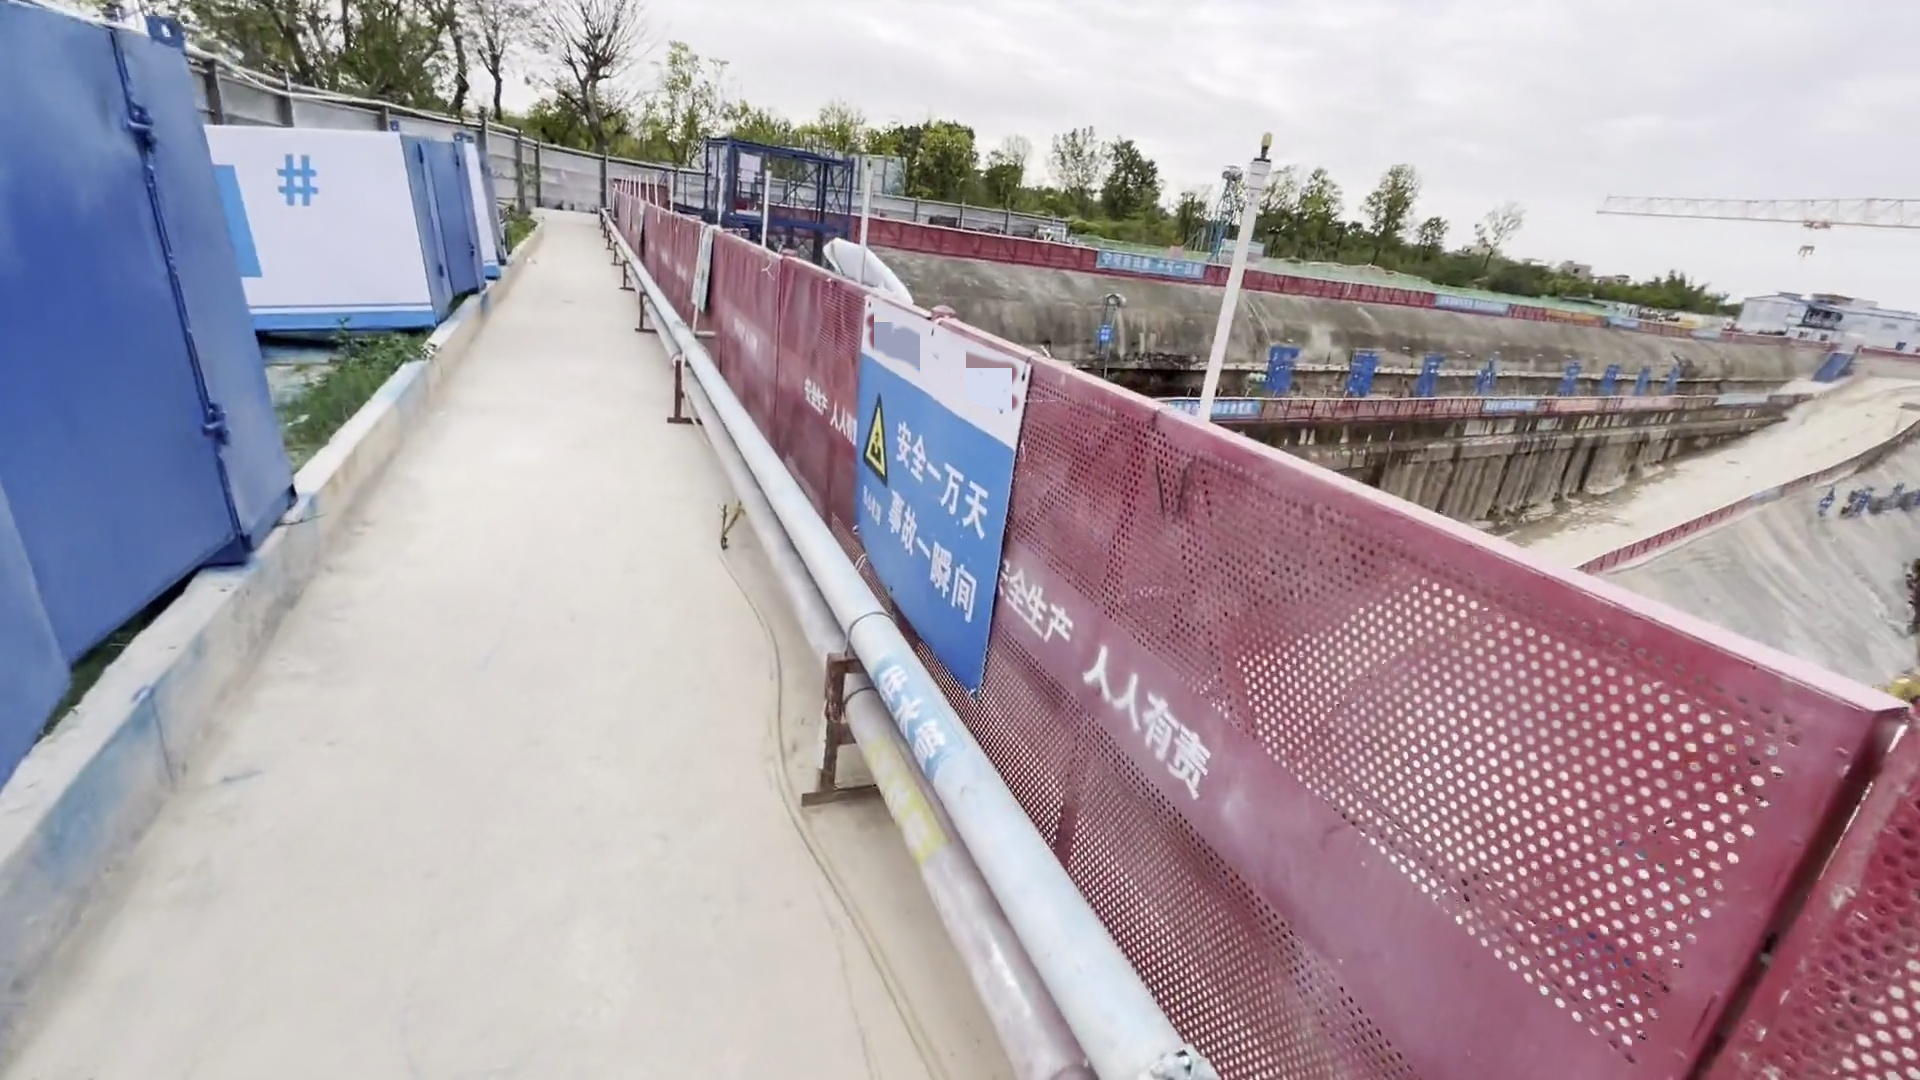fence: (629, 371, 1900, 1073)
slogan: (853, 301, 1044, 665)
